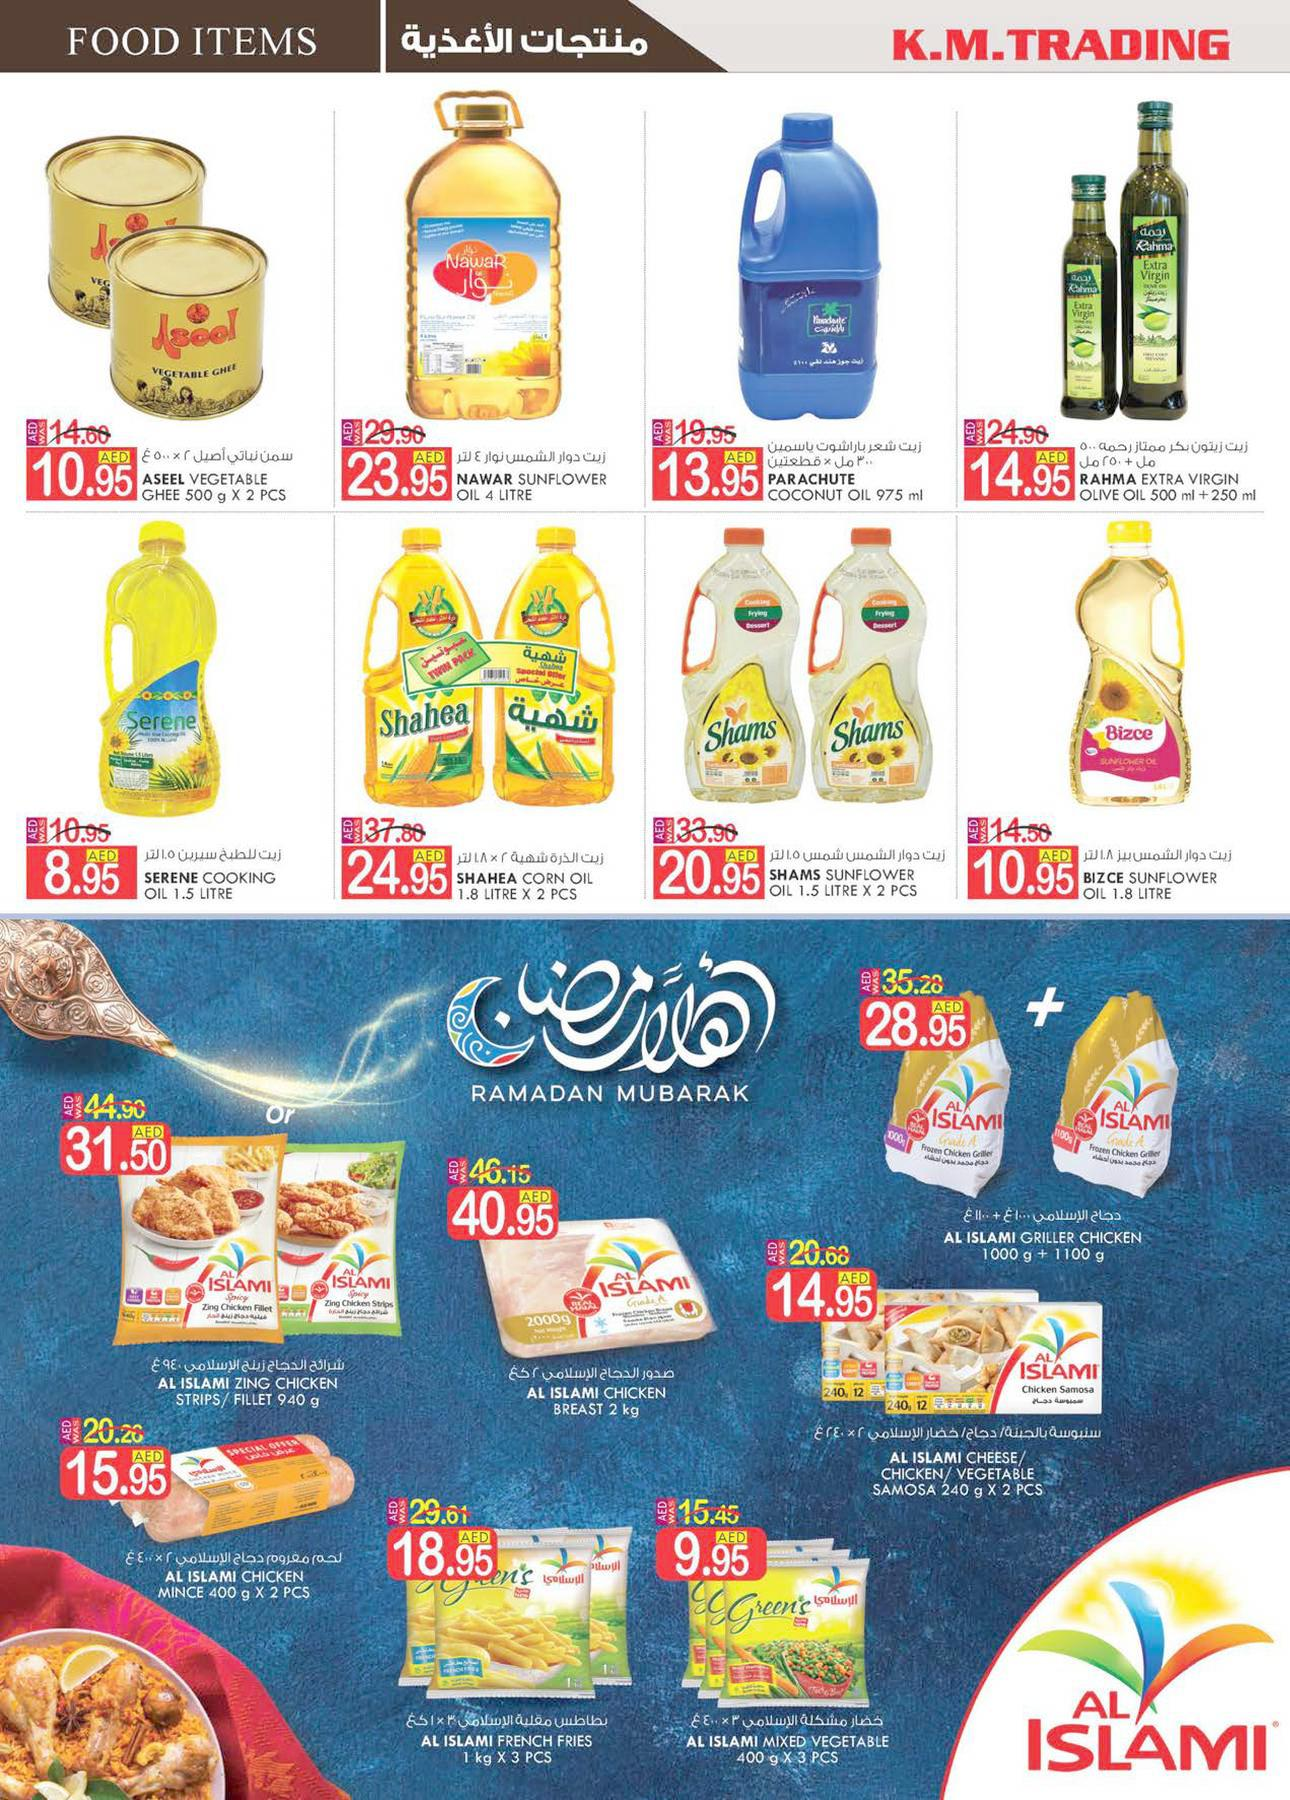text: (806, 1416, 1134, 1515), (103, 1540, 357, 1624), (371, 1704, 624, 1786), (933, 1199, 1157, 1280), (673, 1704, 900, 1783), (500, 1360, 704, 1447), (1074, 433, 1268, 511), (138, 1351, 356, 1419), (138, 433, 310, 511), (764, 435, 942, 508), (1079, 836, 1250, 911), (138, 834, 307, 908), (766, 840, 954, 903), (452, 841, 628, 907), (450, 445, 625, 507)
